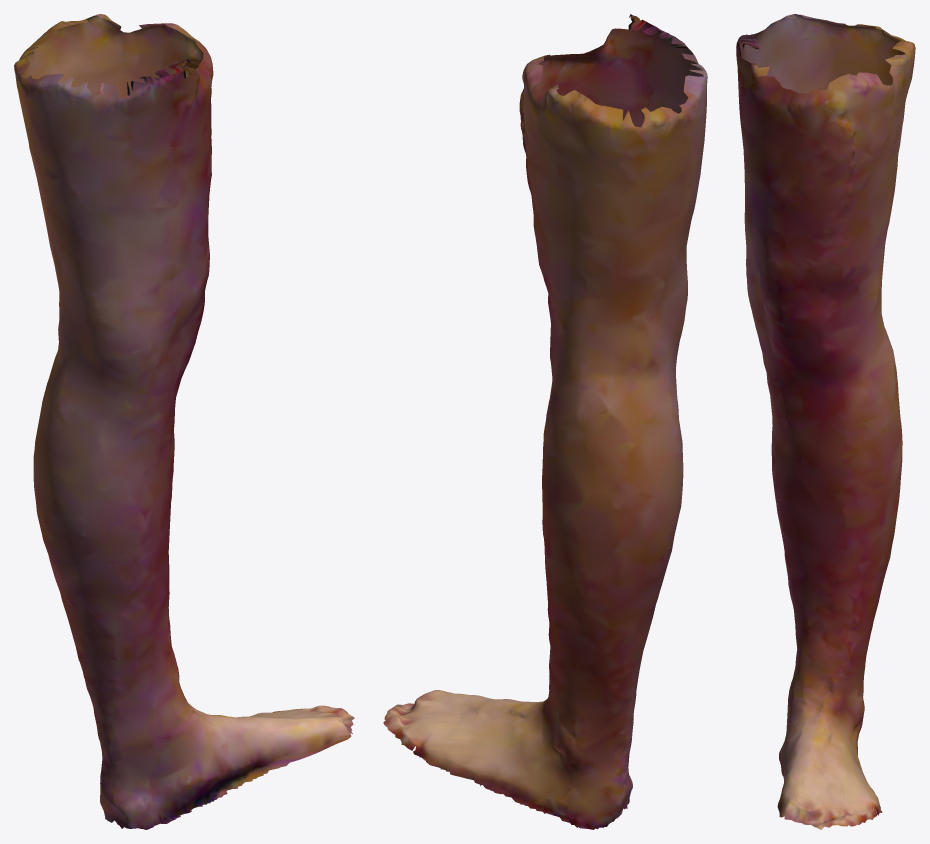
File: leg_0419_CylindricalUV.dae
The picture shows the model from 3 angles, left to right: view 1: azimuth 30°, elevation 25°; view 2: azimuth 150°, elevation 25°; view 3: azimuth 270°, elevation 25°; orthographic projection. The views are drawn at different scales.
Visible parts, largest first — view 1: singleleg_0419_2_Mesh; view 2: singleleg_0419_2_Mesh; view 3: singleleg_0419_2_Mesh.
Part boxes in pixels (bbox=[...]): singleleg_0419_2_Mesh: bbox=[14, 14, 354, 829]; singleleg_0419_2_Mesh: bbox=[383, 14, 707, 829]; singleleg_0419_2_Mesh: bbox=[736, 14, 915, 829].
Bounding box in the file's own units: 29.35 × 70.06 × 15.28.
